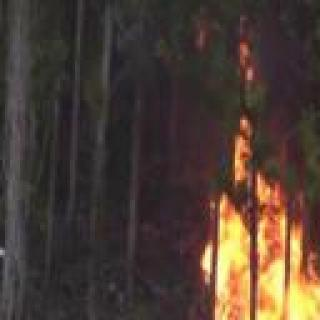fire: (148, 133, 320, 320)
